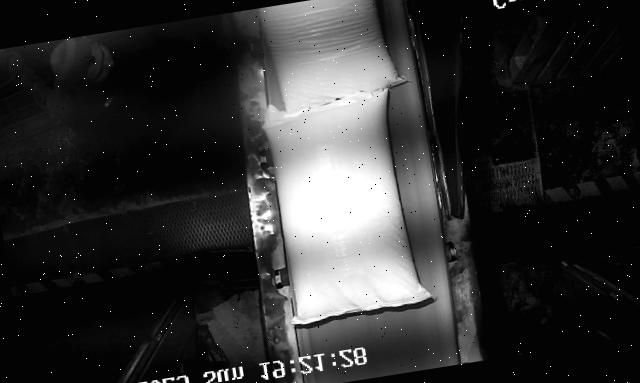bag: (259, 85, 426, 325), (254, 0, 413, 110)
